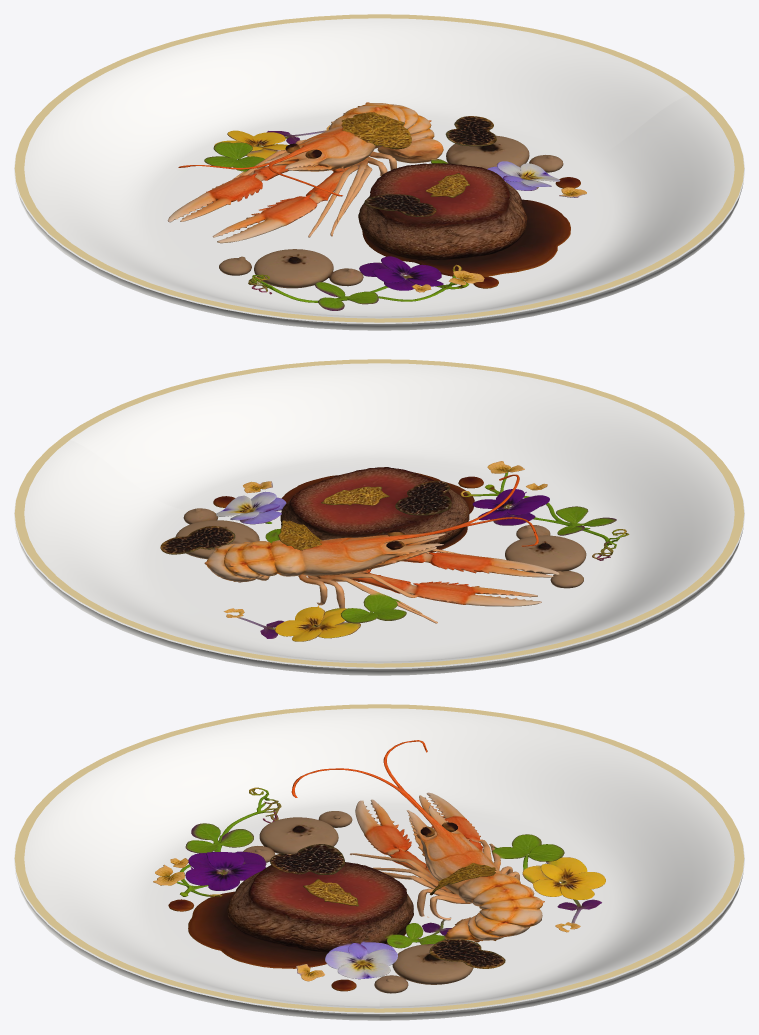
File: degustacao-maison.glb
The picture shows the model from 3 angles, top to bottom: view 1: azimuth 30°, elevation 25°; view 2: azimuth 150°, elevation 25°; view 3: azimuth 270°, elevation 25°; orthographic projection.
Visible parts, largest first — view 1: dish, tripo_node_34af3e53-0e5c-4052-89ff-1d6222426385; view 2: dish, tripo_node_34af3e53-0e5c-4052-89ff-1d6222426385; view 3: dish, tripo_node_34af3e53-0e5c-4052-89ff-1d6222426385.
Part boxes in pixels (x1,y1,x2,y2): dish: [14, 14, 744, 330]; tripo_node_34af3e53-0e5c-4052-89ff-1d6222426385: [167, 102, 586, 310]; dish: [14, 359, 744, 675]; tripo_node_34af3e53-0e5c-4052-89ff-1d6222426385: [160, 461, 629, 641]; dish: [14, 704, 744, 1020]; tripo_node_34af3e53-0e5c-4052-89ff-1d6222426385: [153, 740, 605, 993].
Bounding box in the file's own units: 0.27 × 0.04 × 0.27.
Materials: 4 (1 with a texture image).
